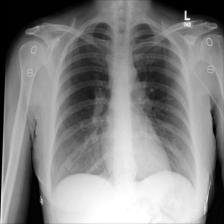normal: (51, 19, 198, 189)
